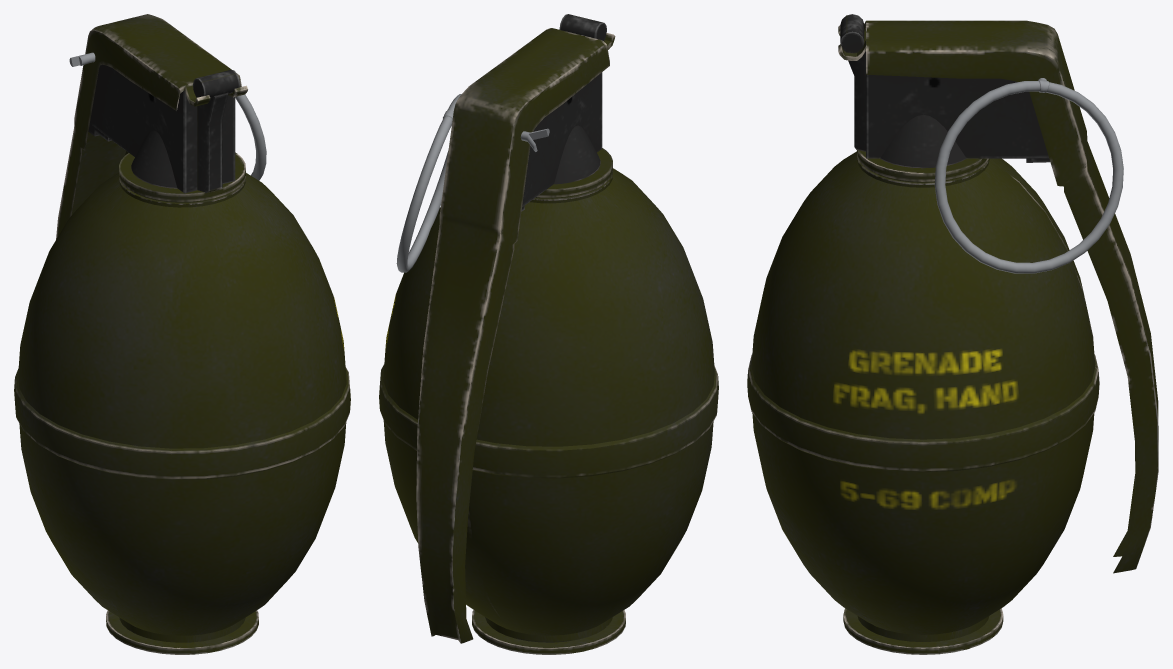
File: he-world.glb
3 renders of one model, left to right at view 1: azimuth 30°, elevation 25°; view 2: azimuth 150°, elevation 25°; view 3: azimuth 270°, elevation 25°, orthographic. The views are drawn at different scales.
Parts seen in each view (by area): view 1: Grenade, Pin; view 2: Grenade, Pin; view 3: Grenade, Pin.
Part boxes in pixels (x1=…): Grenade: x1=14, y1=14, x2=350, y2=654; Pin: x1=69, y1=52, x2=266, y2=180; Grenade: x1=379, y1=14, x2=718, y2=654; Pin: x1=396, y1=94, x2=549, y2=272; Grenade: x1=747, y1=14, x2=1158, y2=654; Pin: x1=934, y1=78, x2=1123, y2=273.
Size of the model in its own units: 0.0641 by 0.12 by 0.0749.
1 material, 1 textured.
